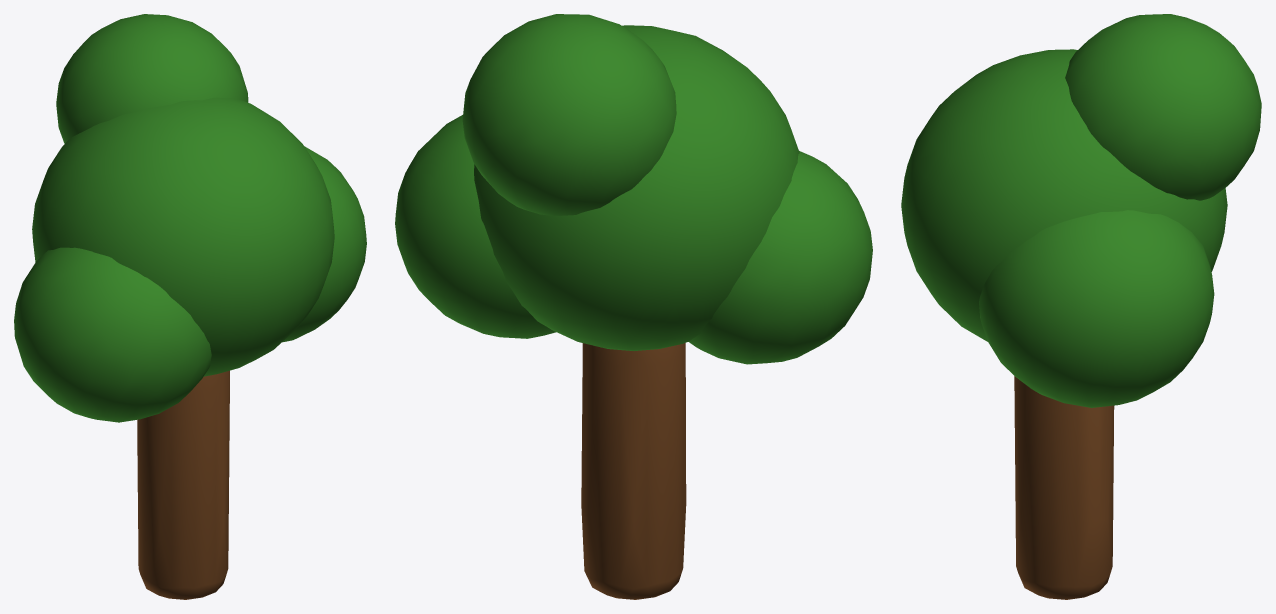
Rendered from Baum.fbx.
The picture shows the model from 3 angles, left to right: view 1: azimuth 30°, elevation 25°; view 2: azimuth 150°, elevation 25°; view 3: azimuth 270°, elevation 25°; orthographic projection. The views are drawn at different scales.
Visible parts, largest first — view 1: Baum; view 2: Baum; view 3: Baum.
Part boxes in pixels (x1,y1,x2,y2): Baum: (14,14,366,599); Baum: (395,14,872,599); Baum: (901,14,1261,599).
Size of the model in its own units: 1.44 by 2.02 by 1.15.
